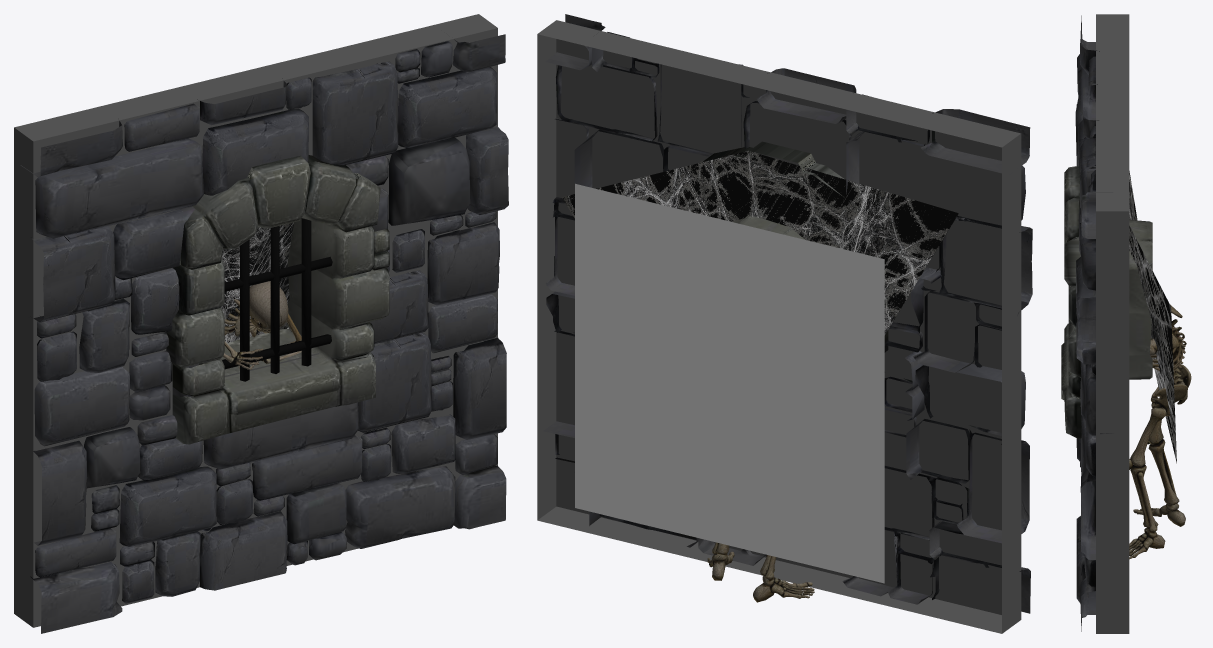
Rendered from Wall_WindowBarred_Skel.fbx.
The picture shows the model from 3 angles, left to right: view 1: azimuth 30°, elevation 25°; view 2: azimuth 150°, elevation 25°; view 3: azimuth 270°, elevation 25°; orthographic projection. The views are drawn at different scales.
Visible parts, largest first — view 1: Wall_BarredWindow_Skel; view 2: Wall_BarredWindow_Skel; view 3: Wall_BarredWindow_Skel.
Part boxes in pixels (bbox=[...]): Wall_BarredWindow_Skel: bbox=[14, 14, 508, 633]; Wall_BarredWindow_Skel: bbox=[537, 14, 1032, 633]; Wall_BarredWindow_Skel: bbox=[1061, 14, 1191, 633].
Size of the model in its own units: 302 by 300 by 88.19.
